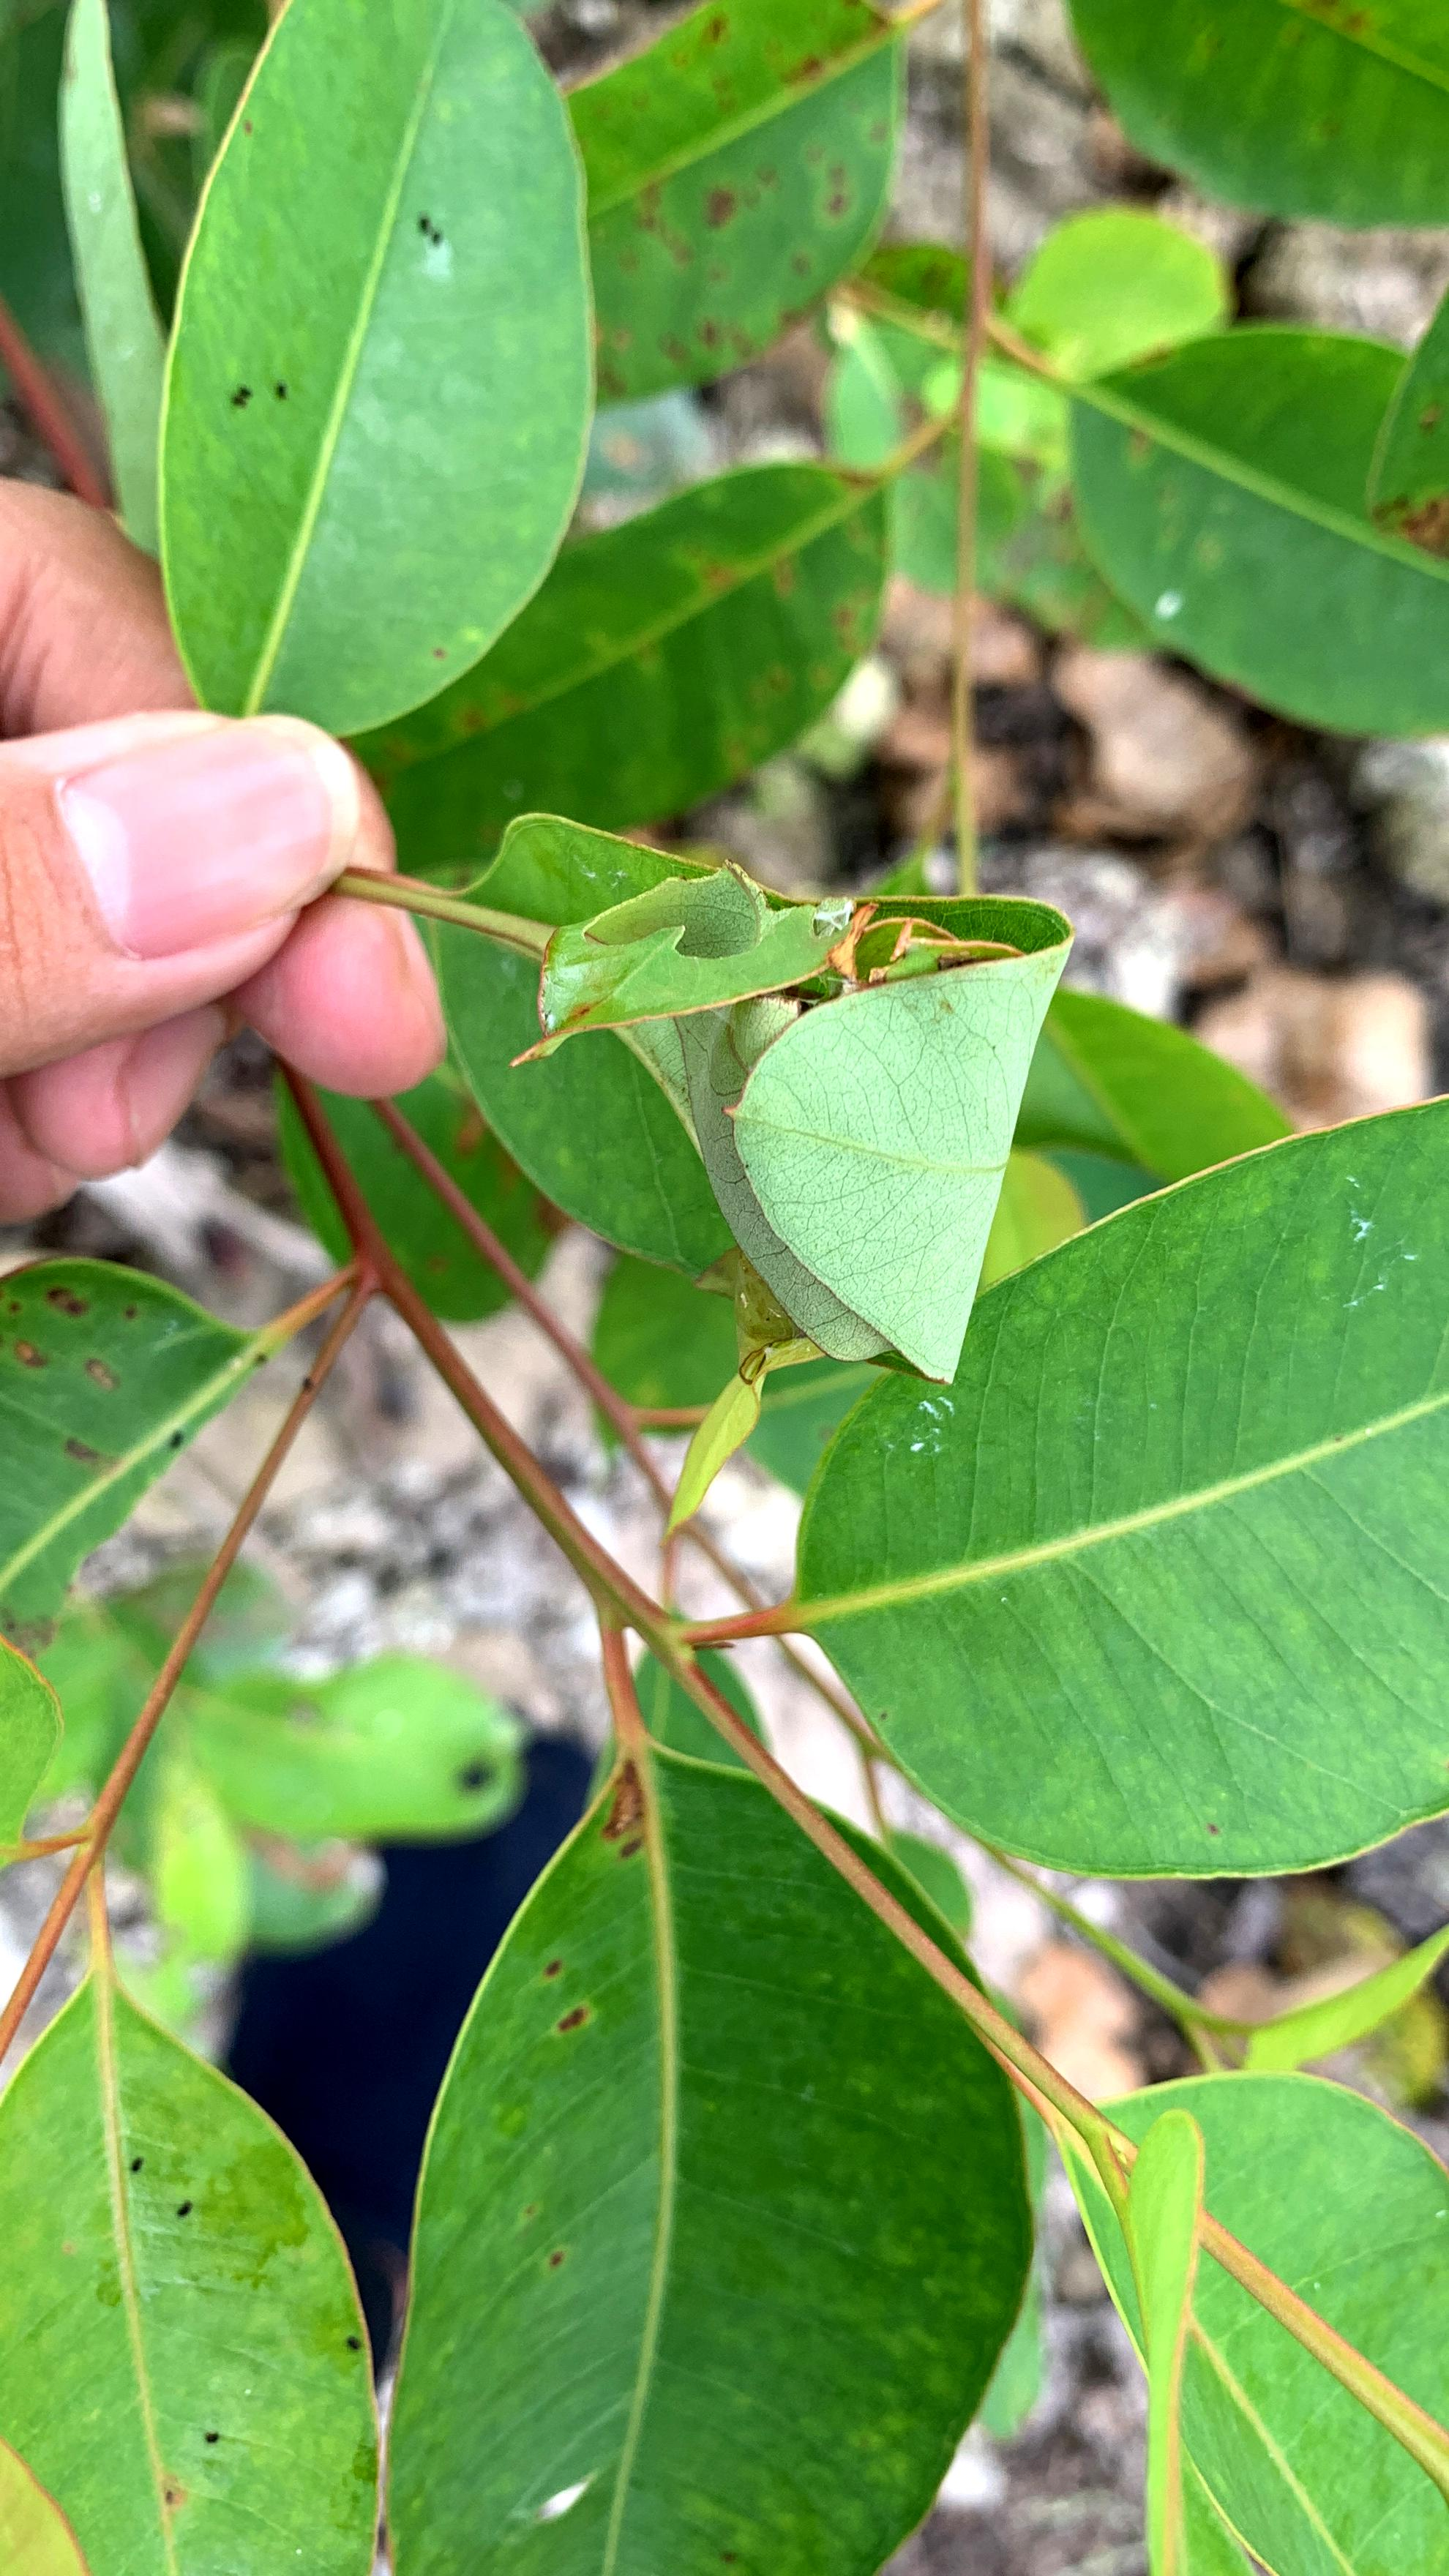Leaf Roller - Leaf: (487, 886, 1068, 1378)
